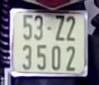0: (50, 45, 62, 71)
2: (66, 15, 78, 42), (65, 45, 77, 71)
3: (21, 45, 33, 71), (34, 14, 44, 40)
5: (35, 44, 47, 70), (22, 14, 33, 41)
Z: (54, 14, 66, 42)
